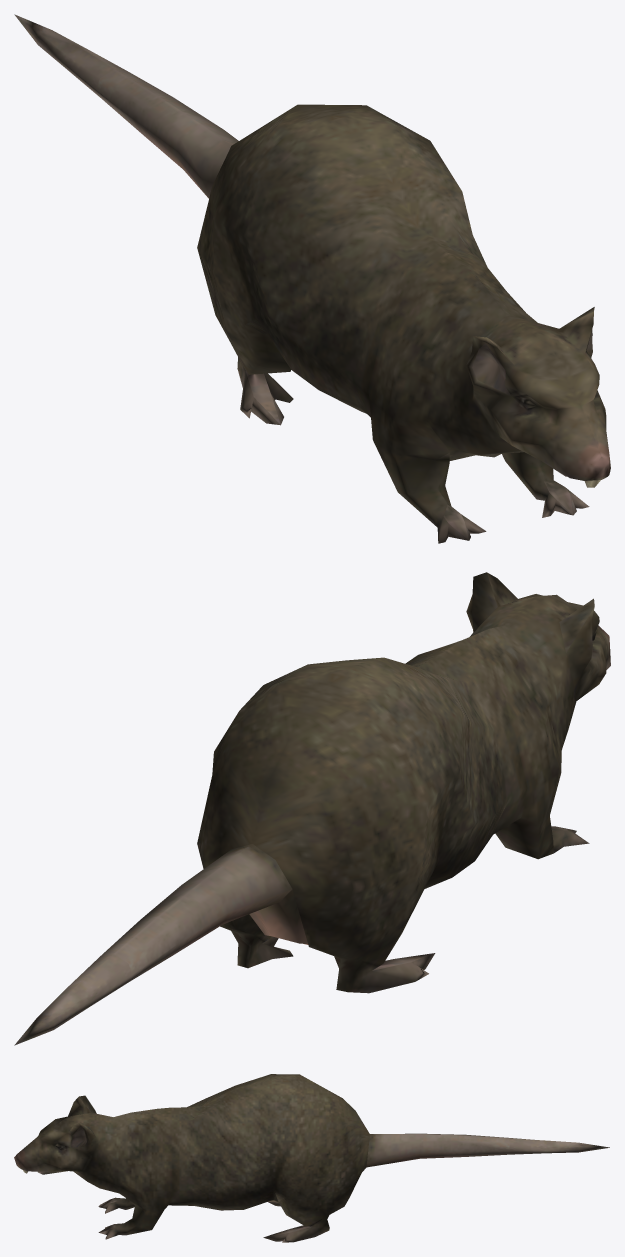
The model's file is Rat.obj.
3 views of the same model, one above another, from view 1: azimuth 30°, elevation 25°; view 2: azimuth 150°, elevation 25°; view 3: azimuth 270°, elevation 25° (orthographic). The views are drawn at different scales.
Parts seen in each view (by area): view 1: Mesh_4831; view 2: Mesh_4831; view 3: Mesh_4831.
Part boxes in pixels (bbox=[...]): Mesh_4831: bbox=[14, 14, 610, 543]; Mesh_4831: bbox=[14, 572, 610, 1045]; Mesh_4831: bbox=[14, 1074, 609, 1242].
Bounding box in the file's own units: 1.69 × 2.14 × 8.11.
Materials: 1 (1 with a texture image).
